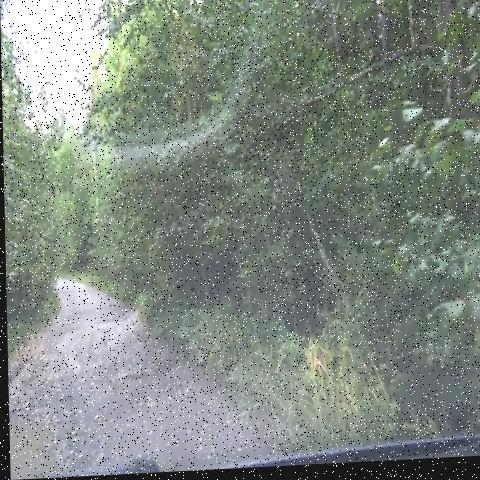pothole: (101, 358, 171, 398), (91, 311, 138, 335), (55, 323, 86, 338)
